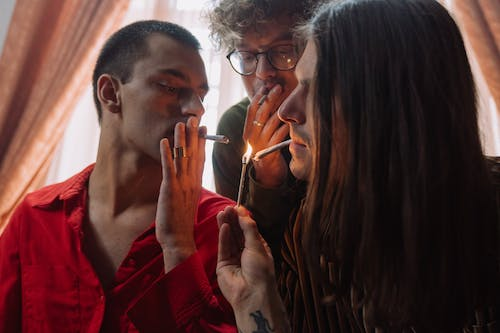cigarette: (251, 139, 293, 164), (197, 133, 231, 146), (257, 89, 270, 107)
